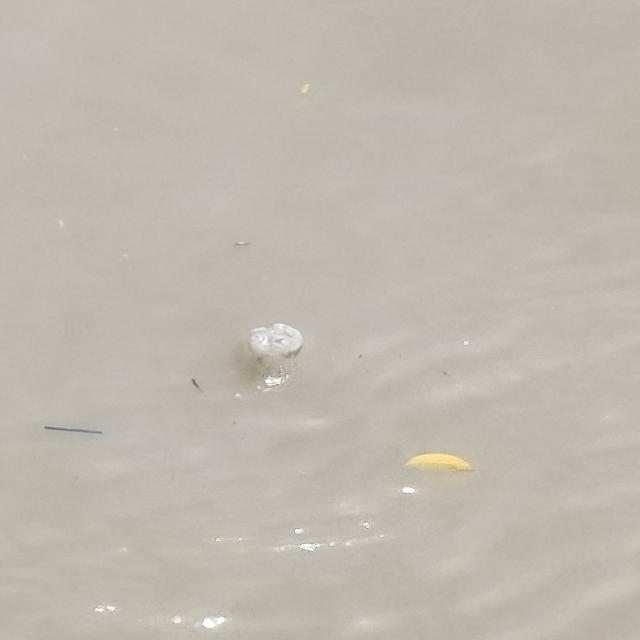Organic Debris: (390, 437, 476, 482), (30, 412, 114, 446), (182, 366, 212, 401), (222, 231, 259, 258), (289, 78, 326, 101)
Plastic: (227, 314, 315, 405)
